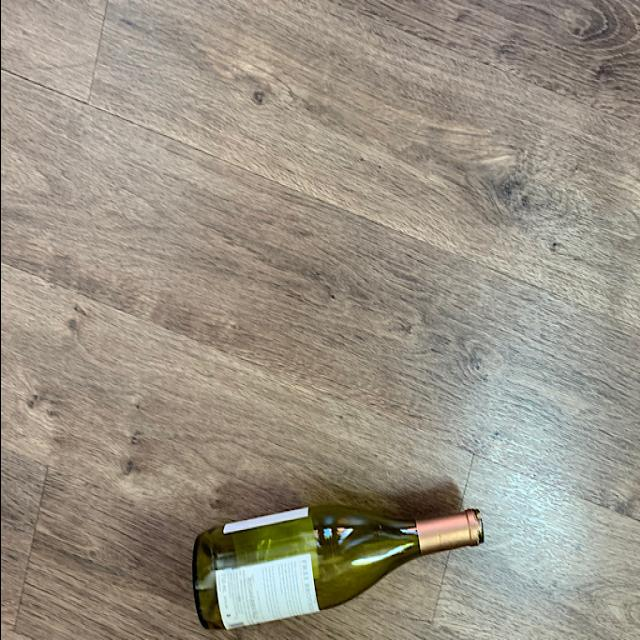Glass Bottle: (191, 499, 489, 635)
